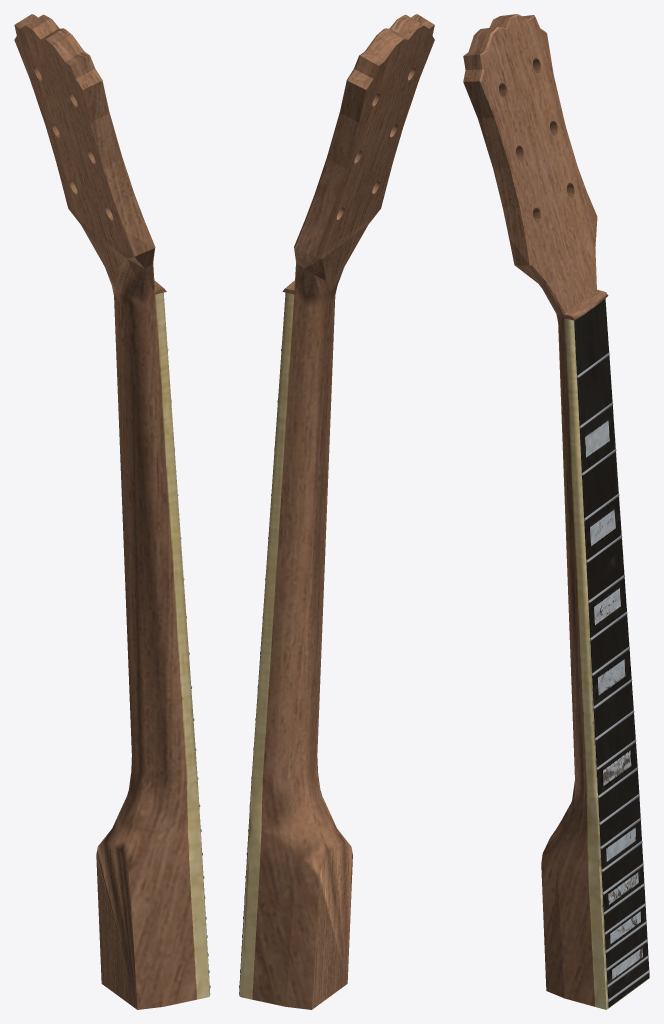
File: gibson_lespaul_NeckS.min.glb
The picture shows the model from 3 angles, left to right: view 1: azimuth 30°, elevation 25°; view 2: azimuth 150°, elevation 25°; view 3: azimuth 330°, elevation 25°; orthographic projection. The views are drawn at different scales.
Bounding box in the file's own units: 0.4784 × 3 × 0.3883.
2 materials, 2 textured.
